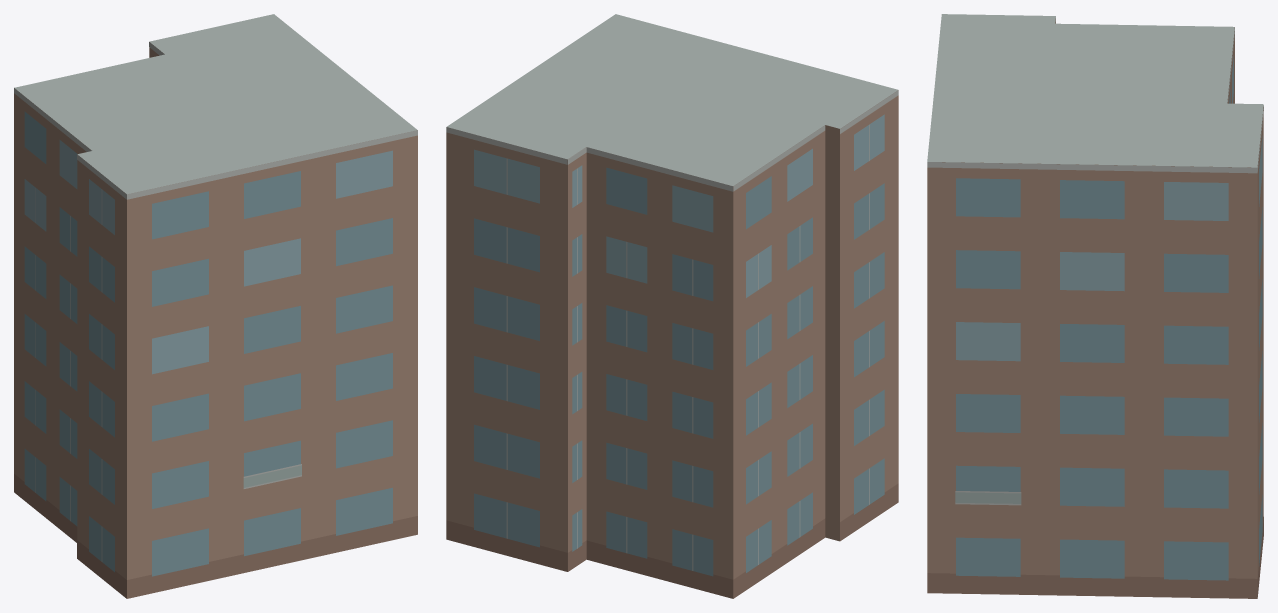
The model's file is survey-upis-32916754.glb.
3 views of the same model, side by side, from view 1: azimuth 30°, elevation 25°; view 2: azimuth 150°, elevation 25°; view 3: azimuth 270°, elevation 25° (orthographic). The views are drawn at different scales.
Parts seen in each view (by area): view 1: survey-upis-32916754.tmp; view 2: survey-upis-32916754.tmp; view 3: survey-upis-32916754.tmp.
Boxes of the visible parts, x1,y1,x2,y2 form: survey-upis-32916754.tmp: (14, 14, 417, 598); survey-upis-32916754.tmp: (446, 14, 898, 598); survey-upis-32916754.tmp: (927, 14, 1263, 598).
Size of the model in its own units: 13.98 by 18.3 by 12.95.
